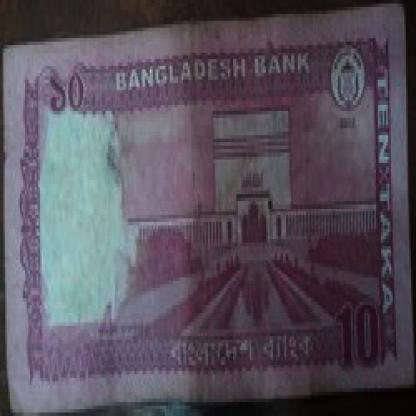Ten Taka: (333, 288, 383, 371), (43, 66, 90, 118)
